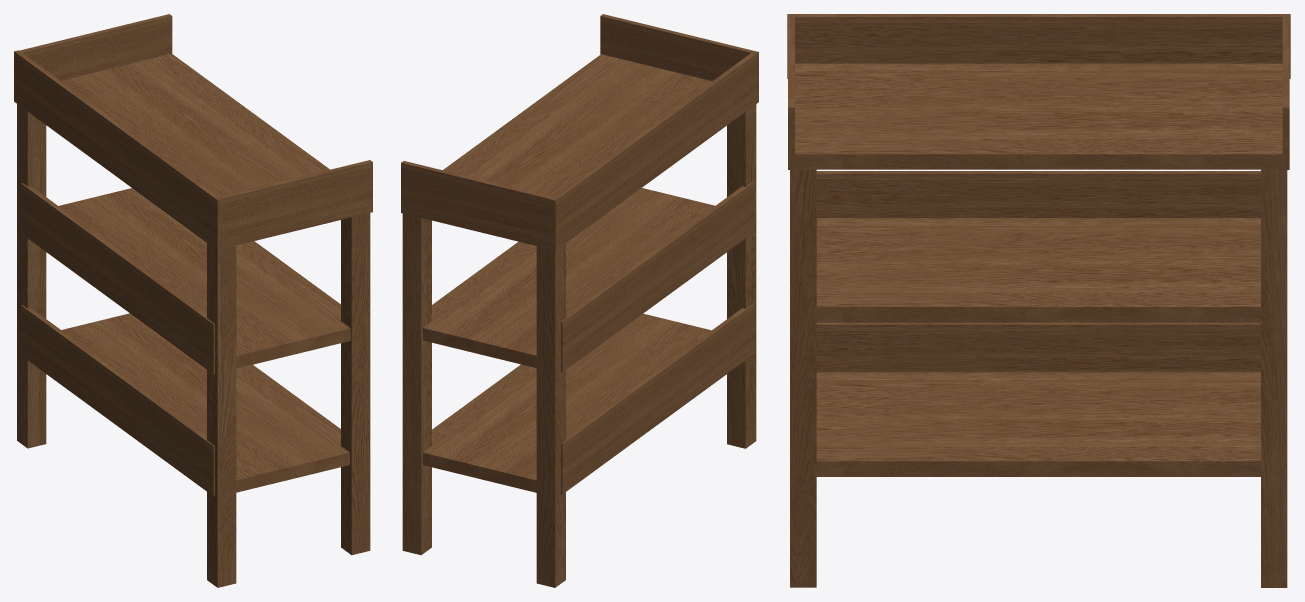
The model's file is shelf_brown.glb.
The picture shows the model from 3 angles, left to right: view 1: azimuth 30°, elevation 25°; view 2: azimuth 150°, elevation 25°; view 3: azimuth 270°, elevation 25°; orthographic projection. The views are drawn at different scales.
Visible parts, largest first — view 1: Cube.038; view 2: Cube.038; view 3: Cube.038.
Boxes of the visible parts, left/top/right/bottom form: Cube.038: left=14, top=14, right=372, bottom=587; Cube.038: left=401, top=14, right=758, bottom=587; Cube.038: left=787, top=14, right=1290, bottom=587.
Size of the model in its own units: 0.6395 by 1.53 by 1.45.
Materials: 1 (1 with a texture image).
